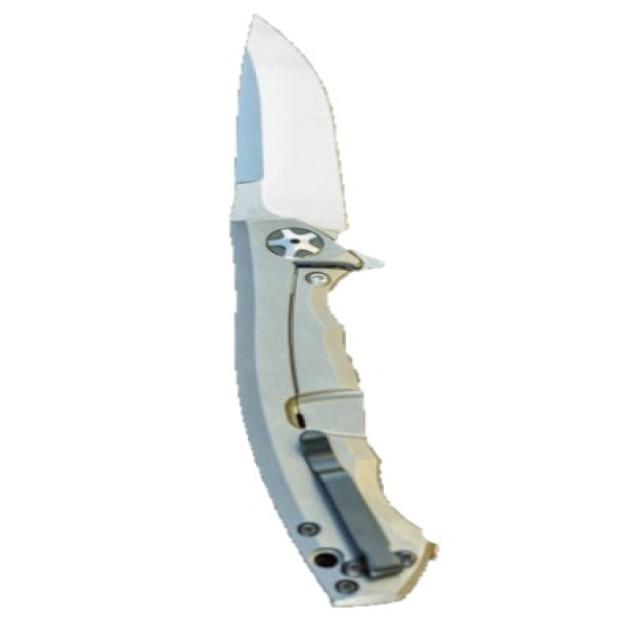knife: (209, 3, 462, 616)
